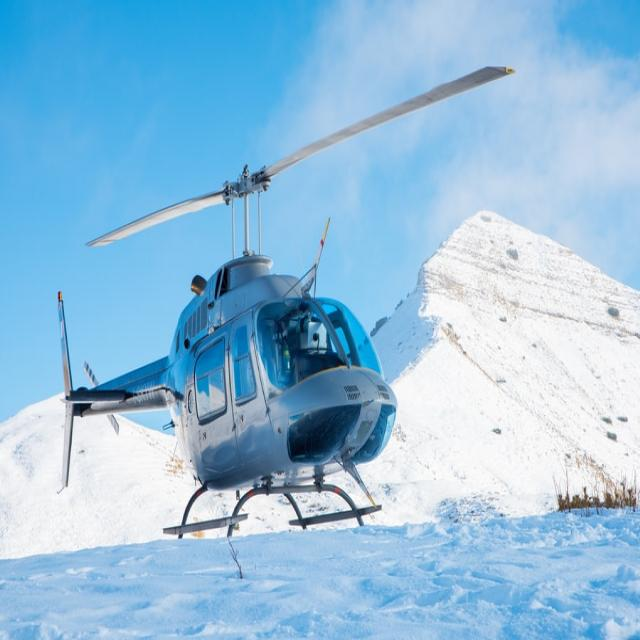helicopter: (52, 59, 546, 547)
